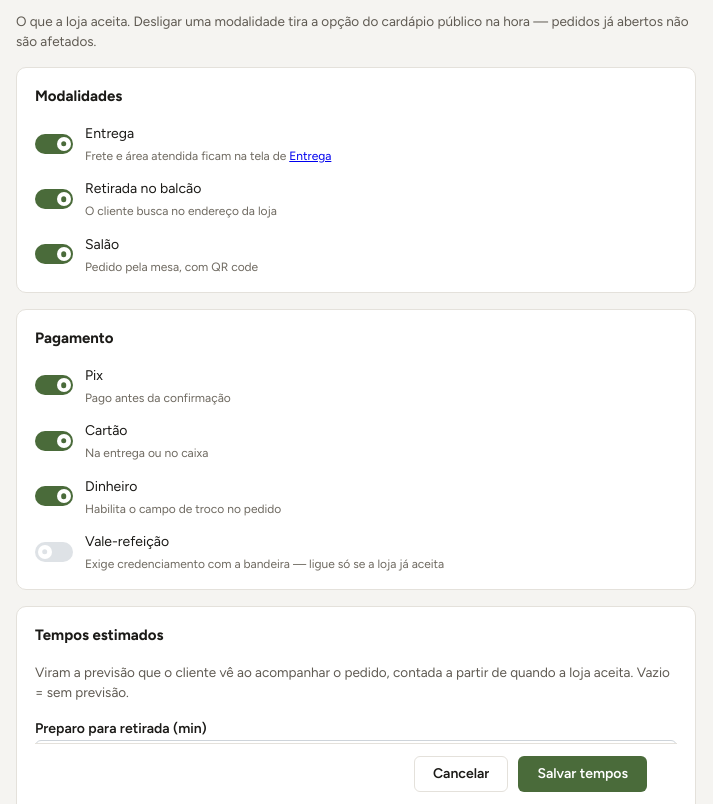
ModalitiesPage › falha da API volta o interruptor e mostra o erro
Click the switch labelled "Pix": [54, 385] box [35,367,231,405]
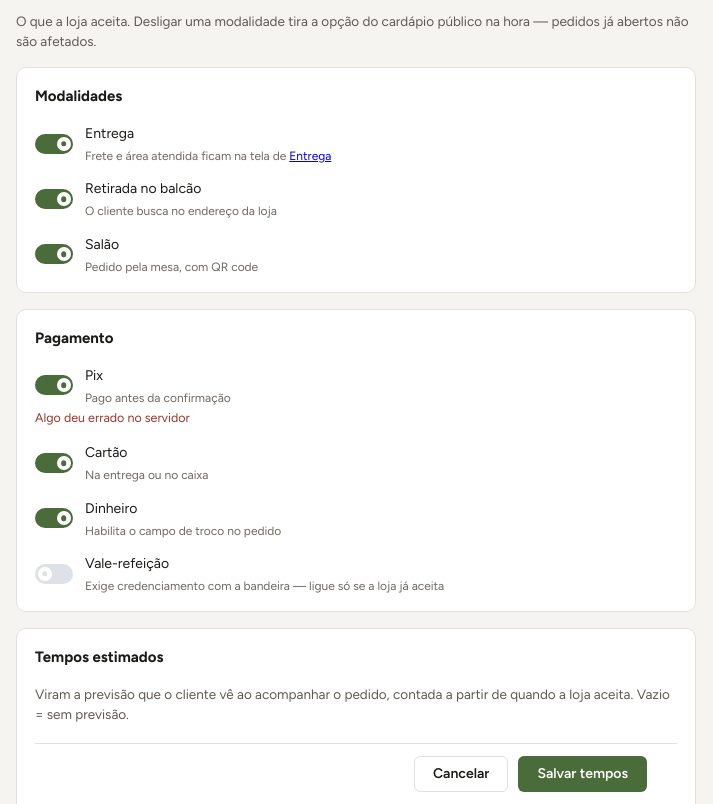
Now the text "Algo deu errado no servidor" is shown, box [35,410,190,425]
